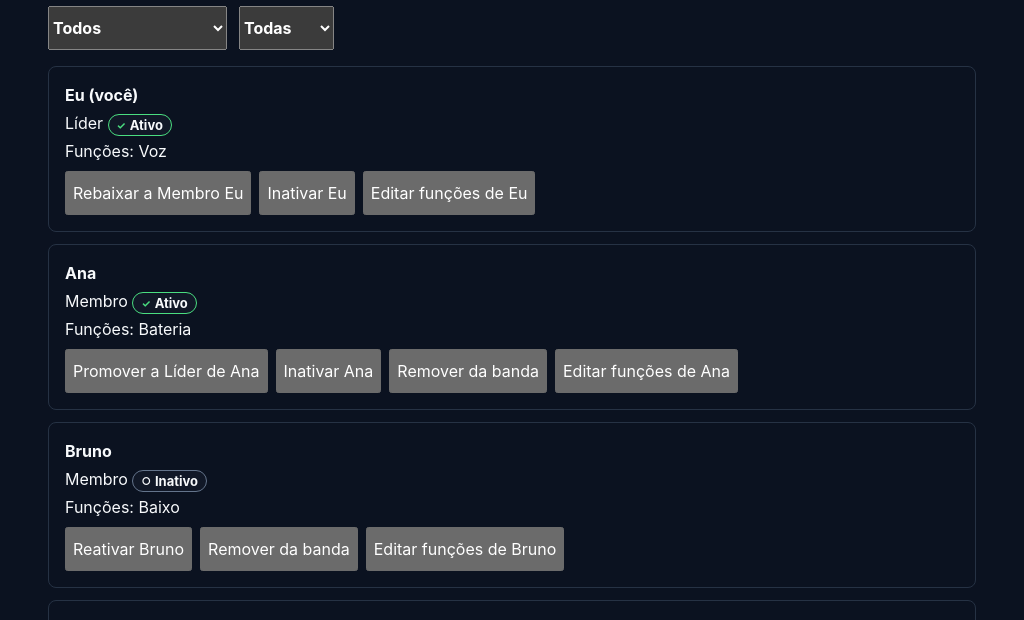
TeamPage › owner promotes; an error keeps the screen and shows the message
(page scrolled)
Click the button "Promover a Líder de Ana": x=166, y=372 top-left (65, 350), bottom-right (268, 394)
(page scrolled)
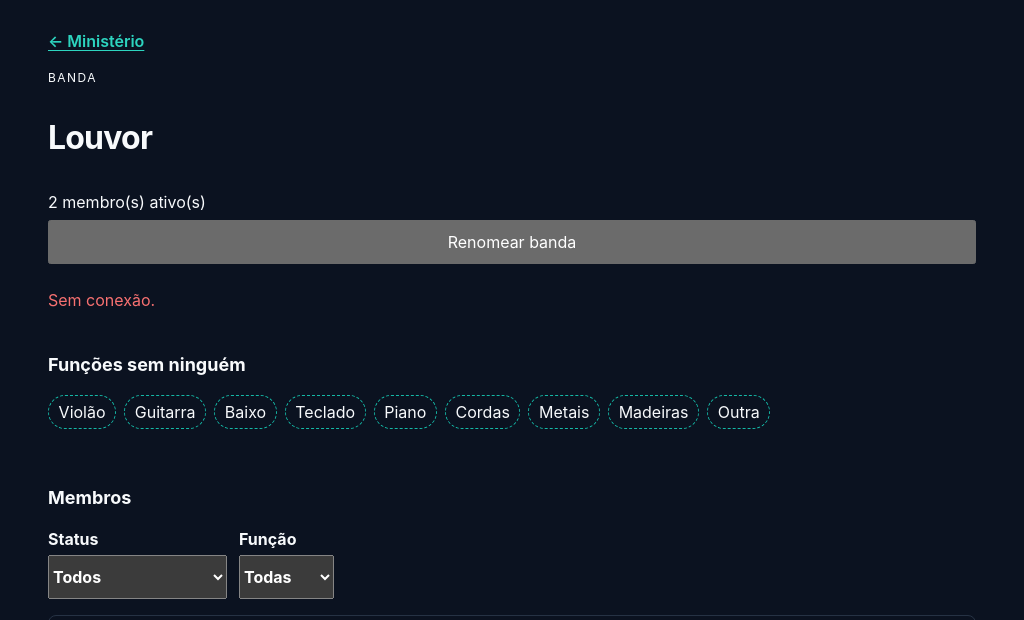
Result: the message reads "Sem conexão." at top-left (48, 290), bottom-right (155, 310)
